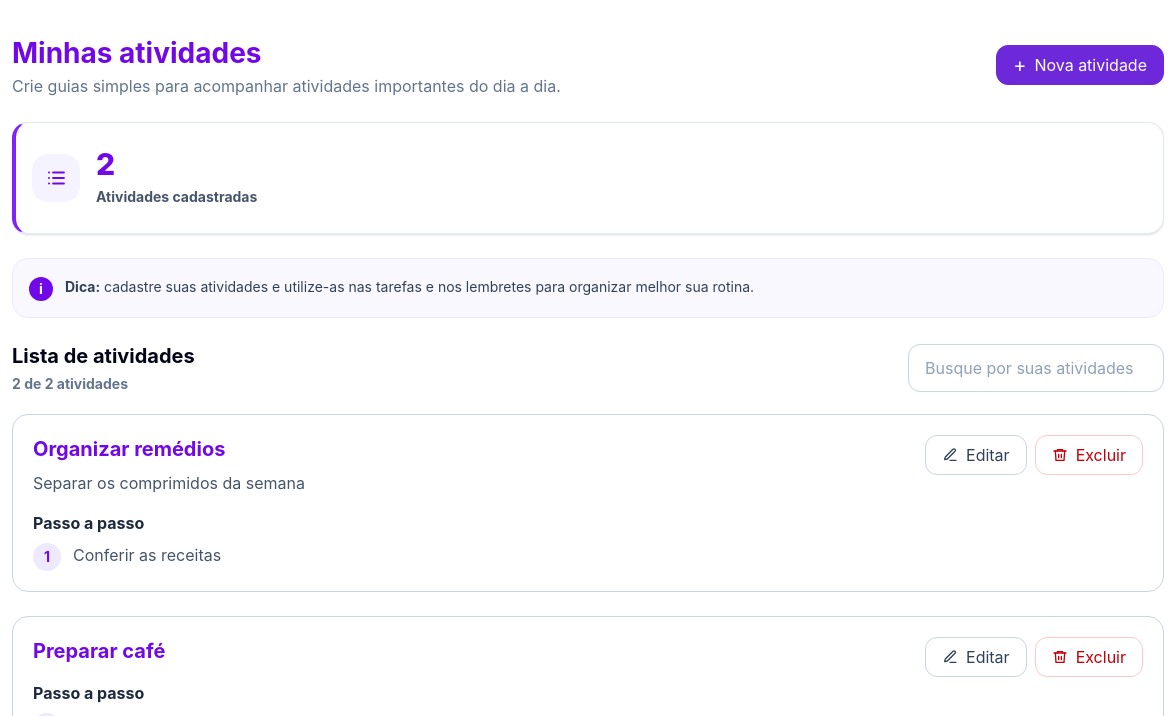
Test case: ActivityPage integration › busca atividades pelo conteúdo
Type "remédios" into the field named "Buscar atividades". click: point(1036, 368)
box: [908, 344, 1164, 392]
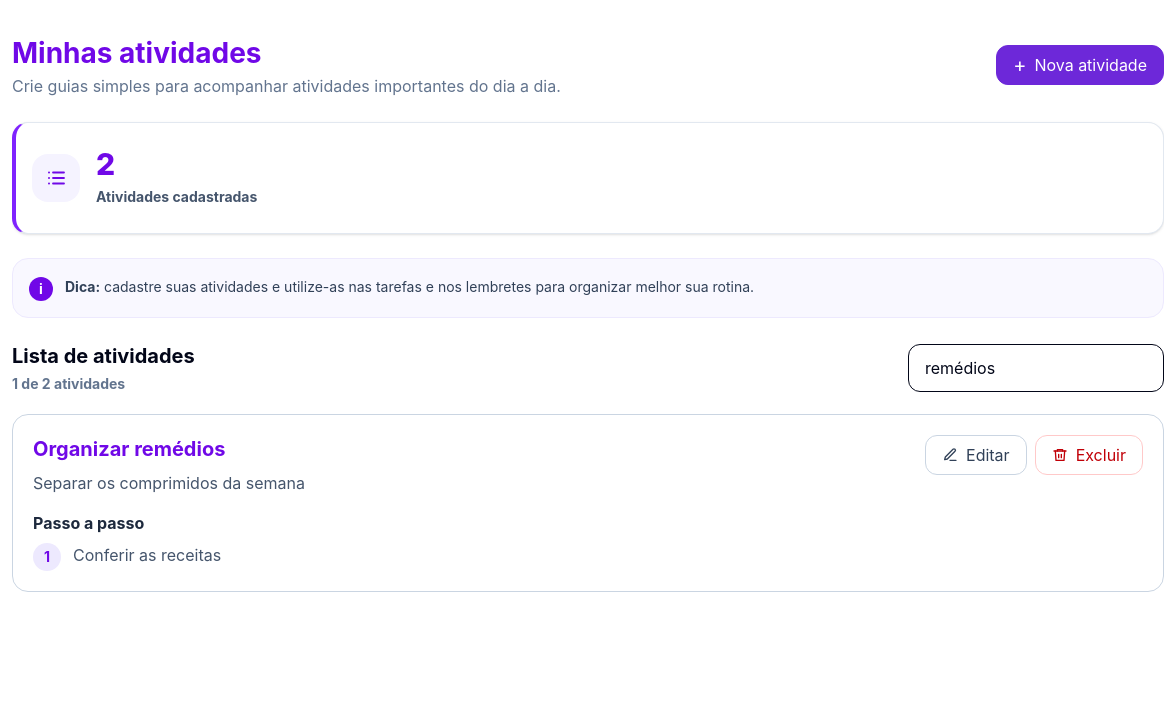
expect the heading "Organizar remédios" is shown: met, box [33, 435, 225, 463]
expect the heading "Preparar café" is gone: met
expect the text "1 de 2 atividades" is shown: met, box [12, 375, 125, 392]
